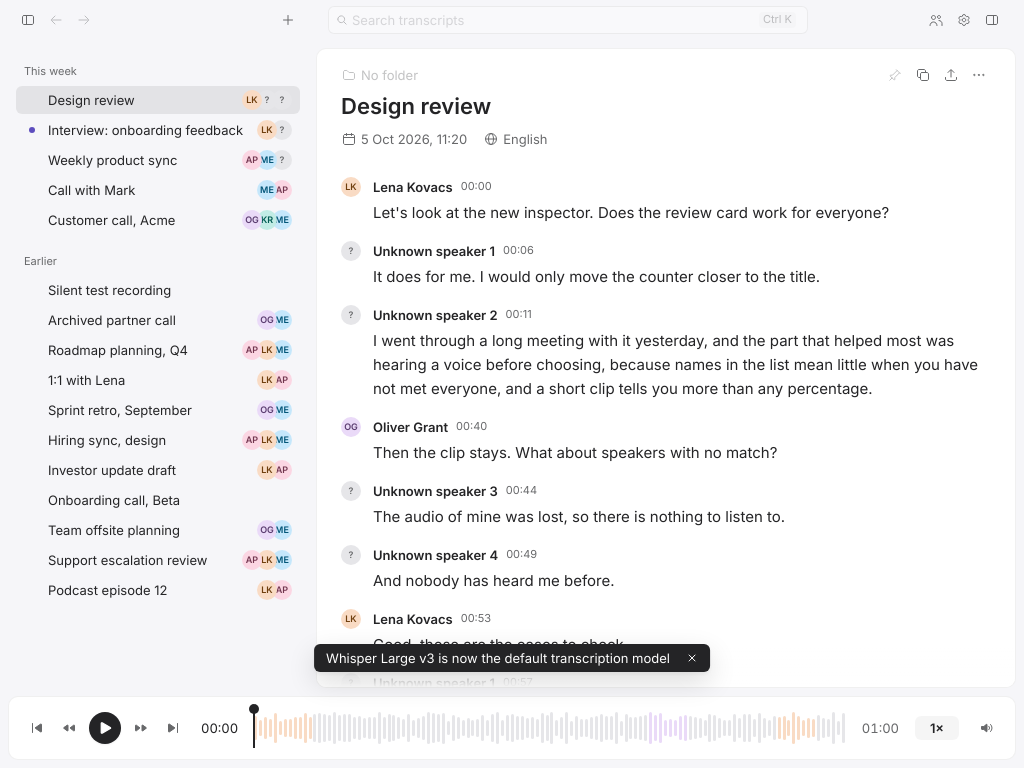
Scenario: everything is on by default: any app, suggest stopping
Expected: the element "This week" is shown, [16, 60, 300, 234]
Click the button named "Settings". click: (964, 20)
box: [952, 8, 976, 32]
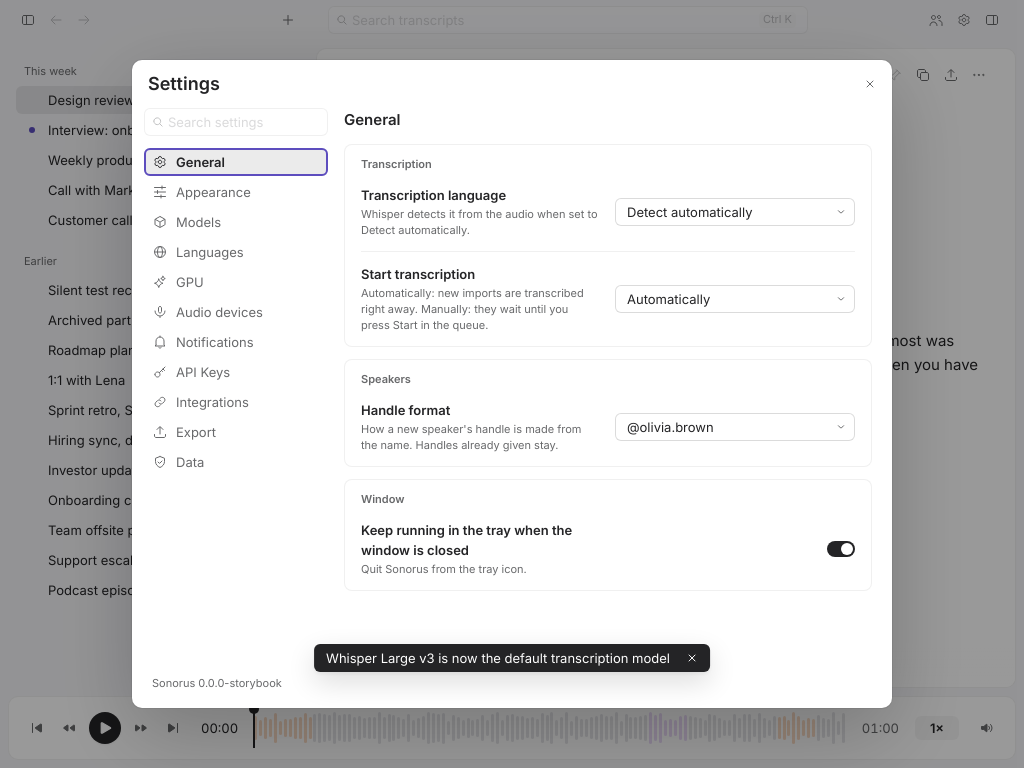
Click the tab "Notifications". click: (236, 342)
box: [144, 328, 328, 356]
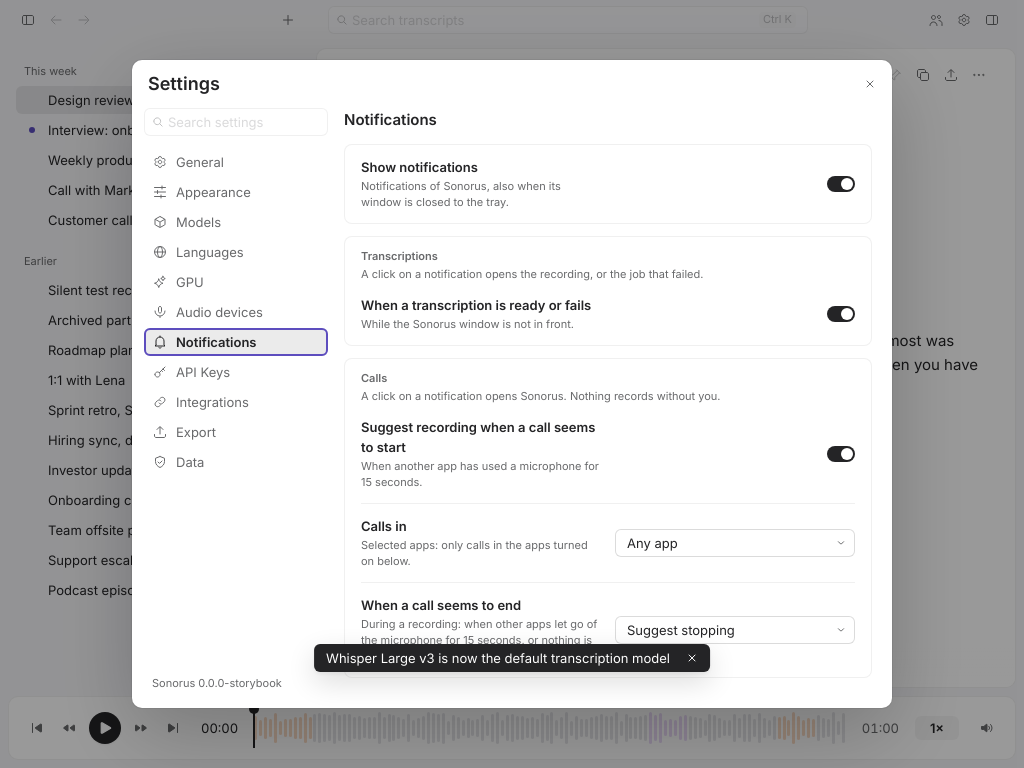
Expected: the heading "Notifications" is shown, [344, 110, 437, 129]
Expected: the dropdown named "Calls in" reads "Any app", [615, 529, 855, 557]
Expected: the dropdown named "When a call seems to end" reads "Suggest stopping", [615, 616, 855, 644]
